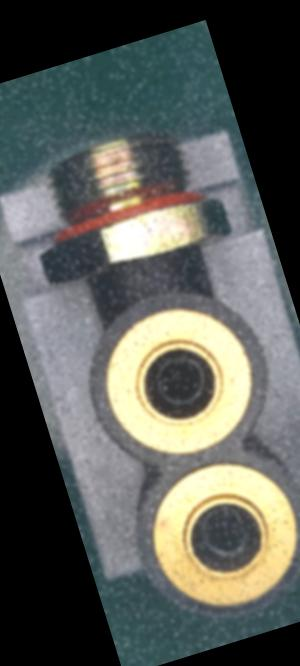craze: (133, 254, 152, 277)
off-centered: (191, 497, 261, 567)
